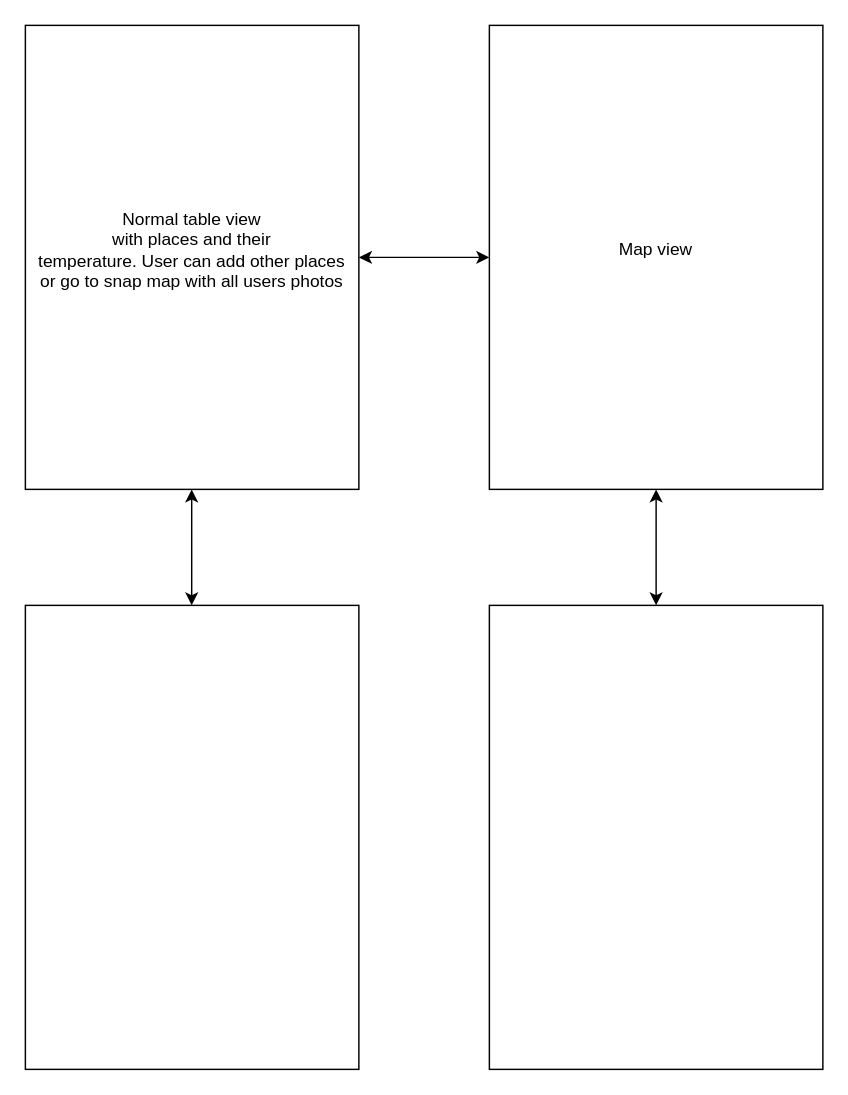
The diagram is 848 pixels wide and 1095 high, and some of its shapes have lost their labels. Each missing label, with the centre of its shape:
Post detail, with comments, likes and other stuff: [655,836]
Sign In / Sign Up: [191,836]
